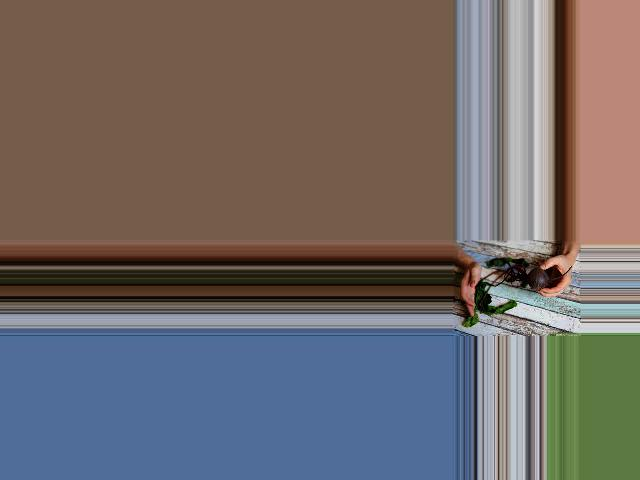beet: (463, 258, 572, 327)
